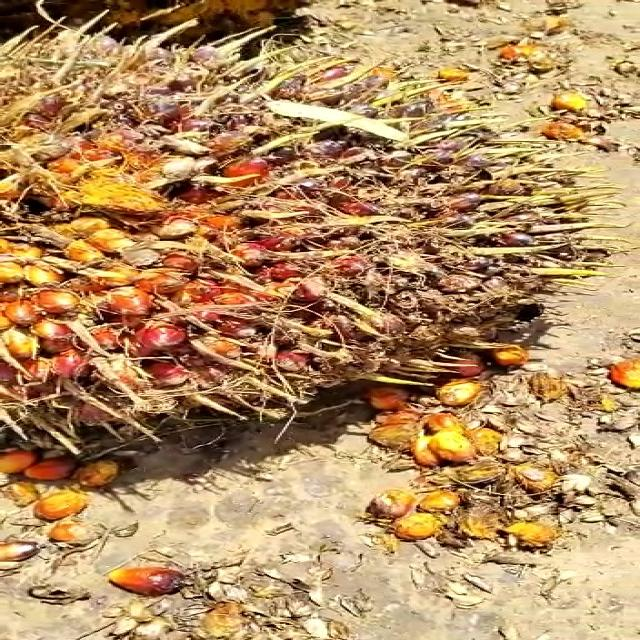palm oil: (0, 21, 602, 466)
